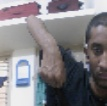hand: (37, 44, 68, 90)
